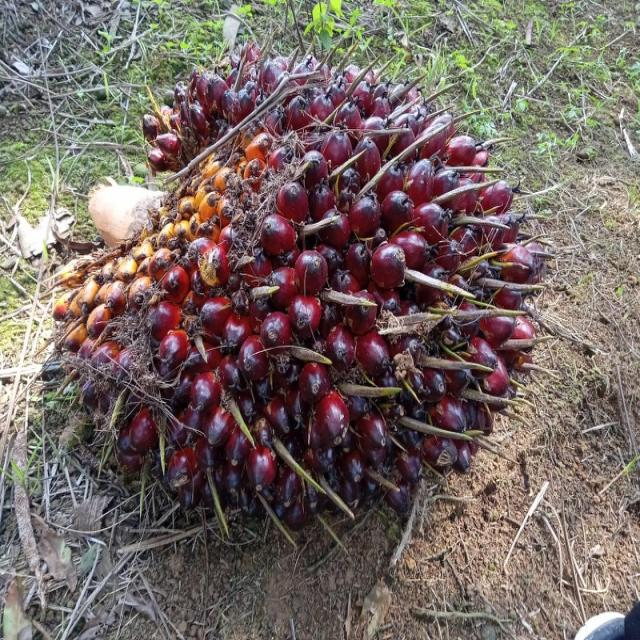fraksi 1: (33, 0, 526, 518)
